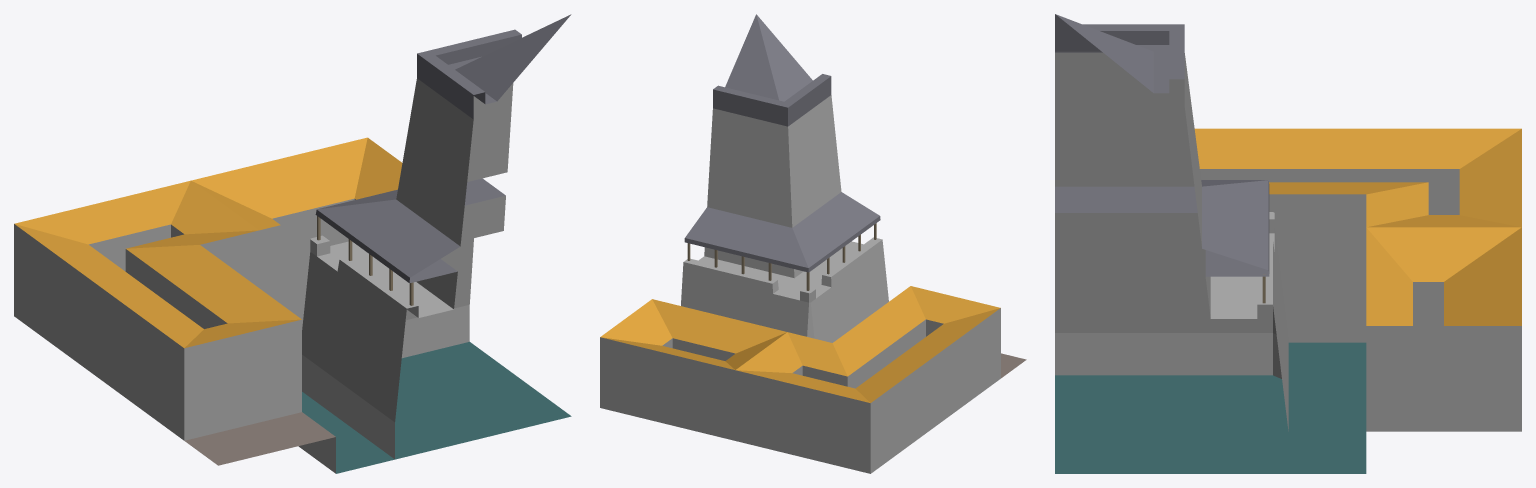
The picture shows the model from 3 angles, left to right: view 1: azimuth 30°, elevation 25°; view 2: azimuth 150°, elevation 25°; view 3: azimuth 270°, elevation 25°; orthographic projection. The views are drawn at different scales.
Visible parts, largest first — view 1: 22cr; view 2: 22cr; view 3: 22cr.
Boxes of the visible parts, x1,y1,x2,y2 form: 22cr: [14, 14, 571, 473]; 22cr: [600, 14, 1026, 473]; 22cr: [1055, 14, 1521, 473].
Bounding box in the file's own units: 30 × 32.63 × 30.
